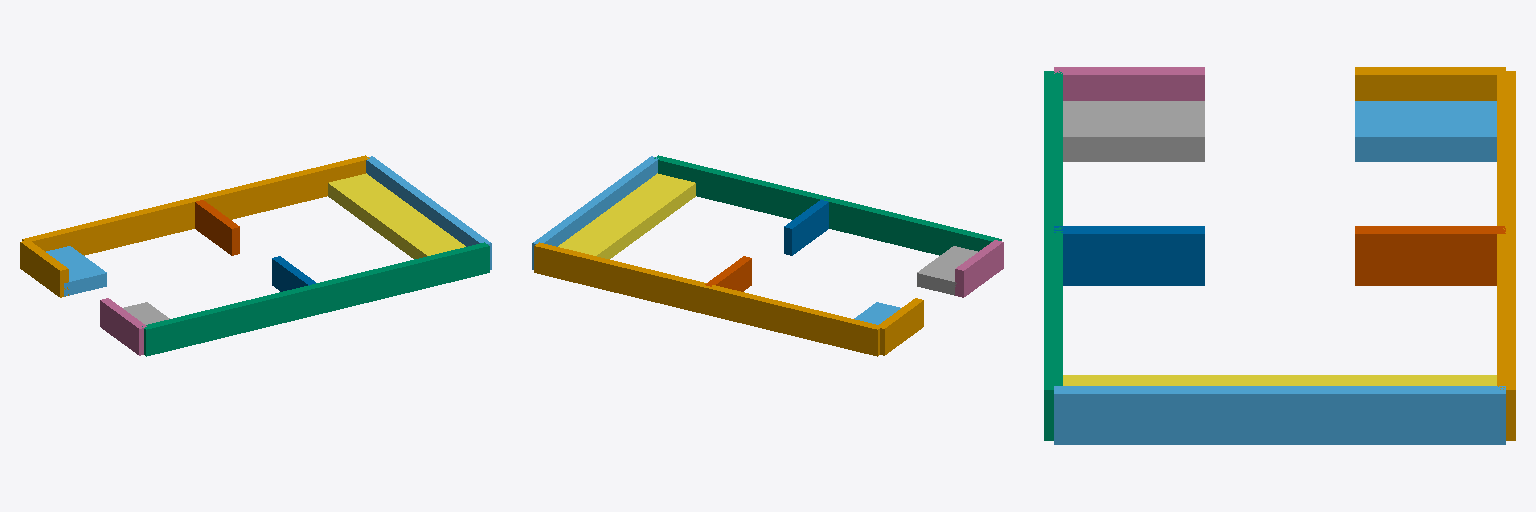
URDF robot description (arena):
<robot name="arena">
  

  	<link name="wall_1">
    		<inertial>
      			<origin xyz="0 1.20 0" /> 
      			<mass value="10.0" />
      			<inertia  ixx="1.0" ixy="0.0"  ixz="0.0"  iyy="1.0"  iyz="0.0"  izz="1.0" />
    		</inertial>
    		<visual>
      			<origin xyz="0 1.20 0"/>
      			<geometry>
        			<box size="4 0.1 0.3" />
      			</geometry>
    		</visual>
    		<collision>
      			<origin xyz="0 1.20 0"/>
      		<geometry>
        		<box size="4 0.1 0.3" />
      		</geometry>
    		</collision>
  	</link>

	<joint name="join1" type="fixed">
    		<origin xyz="2 0 0" rpy="0 0 0"/>
    		<parent link="wall_1"/>
    		<child link="wall_2"/>
  	</joint>

    	<link name="wall_2">
    		<inertial>
      			<origin xyz="0 0 0" /> 
      			<mass value="10.0" />
      			<inertia  ixx="1.0" ixy="0.0"  ixz="0.0"  iyy="1.0"  iyz="0.0"  izz="1.0" />
    		</inertial>
    		<visual>
      			<origin xyz="0 0 0"/>
      			<geometry>
        			<box size="0.1 -2.40 0.3" />
      			</geometry>
    		</visual>
    		<collision>
      			<origin xyz="0 0 0"/>
      			<geometry>
        			<box size="0.1 -2.40 0.3" />
      			</geometry>
    		</collision>
  	</link>

	<joint name="join2" type="fixed">
    		<origin xyz="-2 -1.2 0" rpy="0 0 0"/>
    		<parent link="wall_2"/>
    		<child link="wall_3"/>
  	</joint>

	<link name="wall_3">
    		<inertial>
      			<origin xyz="0 0 0" /> 
      			<mass value="10.0" />
      			<inertia  ixx="1.0" ixy="0.0"  ixz="0.0"  iyy="1.0"  iyz="0.0"  izz="1.0" />
    		</inertial>
    		<visual>
      			<origin xyz="0 0 0"/>
      			<geometry>
        			<box size="4 0.1 0.3" />
      			</geometry>
    		</visual>
    		<collision>
      			<origin xyz="0 0 0"/>
      		<geometry>
        		<box size="4 0.1 0.3" />
      		</geometry>
    		</collision>
  	</link>

	<joint name="join10" type="fixed">
    		<origin xyz="-0.25 0.0 0.0" rpy="0 0 0"/>
    		<parent link="wall_2"/>
    		<child link="wall_10"/>
  	</joint>

	<link name="wall_10">
    		<inertial>
      			<origin xyz="0 0.0 -0.075" /> 
      			<mass value="10.0" />
      			<inertia  ixx="1.0" ixy="0.0"  ixz="0.0"  iyy="1.0"  iyz="0.0"  izz="1.0" />
    		</inertial>
    		<visual>
      			<origin xyz="0 0.0 -0.075"/>
      			<geometry>
        			<box size="0.5 2.4 0.15" />
      			</geometry>
    		</visual>
    		<collision>
      			<origin xyz="0 0.0 -0.075" /> 
      		<geometry>
        		<box size="0.5 2.4 0.15" />
      		</geometry>
    		</collision>
  	</link>

	<joint name="join3" type="fixed">
    		<origin xyz="0 -0.4 0" rpy="0 0 0"/>
    		<parent link="wall_3"/>
    		<child link="wall_4"/>
  	</joint>

	<link name="wall_4">
    		<inertial>
      			<origin xyz="0 0.8 0" /> 
      			<mass value="10.0" />
      			<inertia  ixx="1.0" ixy="0.0"  ixz="0.0"  iyy="1.0"  iyz="0.0"  izz="1.0" />
    		</inertial>
    		<visual>
      			<origin xyz="0 0.8 0"/>
      			<geometry>
        			<box size="0.1 0.8 0.3" />
      			</geometry>
    		</visual>
    		<collision>
      			<origin xyz="0 0.8 0"/>
      		<geometry>
        		<box size="0.1 0.8 0.3" />
      		</geometry>
    		</collision>
  	</link>

	<joint name="join4" type="fixed">
    		<origin xyz="0 0 0" rpy="0 0 0"/>
    		<parent link="wall_1"/>
    		<child link="wall_5"/>
  	</joint>

	<link name="wall_5">
    		<inertial>
      			<origin xyz="0 0.8 0" /> 
      			<mass value="10.0" />
      			<inertia  ixx="1.0" ixy="0.0"  ixz="0.0"  iyy="1.0"  iyz="0.0"  izz="1.0" />
    		</inertial>
    		<visual>
      			<origin xyz="0 0.8 0"/>
      			<geometry>
        			<box size="0.1 0.8 0.3" />
      			</geometry>
    		</visual>
    		<collision>
      			<origin xyz="0 0.8 0" /> 
      		<geometry>
        		<box size="0.1 0.8 0.3" />
      		</geometry>
    		</collision>
  	</link>

----------
	<joint name="join5" type="fixed">
    		<origin xyz="-2 -0.4 0" rpy="0 0 0"/>
    		<parent link="wall_3"/>
    		<child link="wall_6"/>
  	</joint>

	<link name="wall_6">
    		<inertial>
      			<origin xyz="0 0.8 0" /> 
      			<mass value="10.0" />
      			<inertia  ixx="1.0" ixy="0.0"  ixz="0.0"  iyy="1.0"  iyz="0.0"  izz="1.0" />
    		</inertial>
    		<visual>
      			<origin xyz="0 0.8 0"/>
      			<geometry>
        			<box size="0.1 0.8 0.3" />
      			</geometry>
    		</visual>
    		<collision>
      			<origin xyz="0 0.8 0"/>
      		<geometry>
        		<box size="0.1 0.8 0.3" />
      		</geometry>
    		</collision>
  	</link>
	
	<joint name="join8" type="fixed">
    		<origin xyz="0.25 0.8 0.0" rpy="0 0 0"/>
    		<parent link="wall_6"/>
    		<child link="wall_9"/>
  	</joint>

	<link name="wall_9">
    		<inertial>
      			<origin xyz="0 0.0 -0.075" /> 
      			<mass value="10.0" />
      			<inertia  ixx="1.0" ixy="0.0"  ixz="0.0"  iyy="1.0"  iyz="0.0"  izz="1.0" />
    		</inertial>
    		<visual>
      			<origin xyz="0 0.0 -0.075"/>
      			<geometry>
        			<box size="0.5 0.8 0.15" />
      			</geometry>
    		</visual>
    		<collision>
      			<origin xyz="0 0.0 -0.075" /> 
      		<geometry>
        		<box size="0.5 0.8 0.15" />
      		</geometry>
    		</collision>
  	</link>

	<joint name="join6" type="fixed">
    		<origin xyz="-2 0 0" rpy="0 0 0"/>
    		<parent link="wall_1"/>
    		<child link="wall_7"/>
  	</joint>

	<link name="wall_7">
    		<inertial>
      			<origin xyz="0 0.8 0" /> 
      			<mass value="10.0" />
      			<inertia  ixx="1.0" ixy="0.0"  ixz="0.0"  iyy="1.0"  iyz="0.0"  izz="1.0" />
    		</inertial>
    		<visual>
      			<origin xyz="0 0.8 0"/>
      			<geometry>
        			<box size="0.1 0.8 0.3" />
      			</geometry>
    		</visual>
    		<collision>
      			<origin xyz="0 0.8 0" /> 
      		<geometry>
        		<box size="0.1 0.8 0.3" />
      		</geometry>
    		</collision>
  	</link>

	<joint name="join7" type="fixed">
    		<origin xyz="0.25 0.8 0.0" rpy="0 0 0"/>
    		<parent link="wall_7"/>
    		<child link="wall_8"/>
  	</joint>

	<link name="wall_8">
    		<inertial>
      			<origin xyz="0 0.0 -0.075" /> 
      			<mass value="10.0" />
      			<inertia  ixx="1.0" ixy="0.0"  ixz="0.0"  iyy="1.0"  iyz="0.0"  izz="1.0" />
    		</inertial>
    		<visual>
      			<origin xyz="0 0.0 -0.075"/>
      			<geometry>
        			<box size="0.5 0.8 0.15" />
      			</geometry>
    		</visual>
    		<collision>
      			<origin xyz="0 0.0 -0.075" /> 
      		<geometry>
        		<box size="0.5 0.8 0.15" />
      		</geometry>
    		</collision>
  	</link>




  <gazebo reference="wall_1">
	<material>Gazebo/Gray</material>
	<selfCollide>true</selfCollide>
  </gazebo>
  <gazebo reference="wall_2">
	<material>Gazebo/Gray</material>
	<selfCollide>true</selfCollide>
  </gazebo>
  <gazebo reference="wall_3">
	<material>Gazebo/Gray</material>
	<selfCollide>true</selfCollide>
  </gazebo>
  <gazebo reference="wall_4">
	<material>Gazebo/Gray</material>
	<selfCollide>true</selfCollide>
  </gazebo>
  <gazebo reference="wall_5">
	<material>Gazebo/Gray</material>
	<selfCollide>true</selfCollide>
  </gazebo>
  <gazebo reference="wall_6">
	<material>Gazebo/Gray</material>
	<selfCollide>true</selfCollide>
  </gazebo>
  <gazebo reference="wall_7">
	<material>Gazebo/Gray</material>
	<selfCollide>true</selfCollide>
  </gazebo>
  <gazebo reference="wall_8">
	<material>Gazebo/Gray</material>
	<selfCollide>true</selfCollide>
  </gazebo>
  <gazebo reference="wall_9">
	<material>Gazebo/Gray</material>
	<selfCollide>true</selfCollide>
  </gazebo>
  <gazebo reference="wall_10">
	<material>Gazebo/Gray</material>
	<selfCollide>true</selfCollide>
  </gazebo>

</robot>

--- Render facts (derived) ---
The picture shows the robot from 3 angles, left to right: view 1: azimuth 30°, elevation 25°; view 2: azimuth 150°, elevation 25°; view 3: azimuth 270°, elevation 25°; orthographic projection.
Model arena with 10 links and 9 joints (9 fixed), rooted at wall_1, posed all joints at 0.
Links seen in each view (by area): view 1: wall_3, wall_1, wall_10, wall_2, wall_7, wall_8, wall_5, wall_6, wall_4, wall_9; view 2: wall_1, wall_3, wall_10, wall_2, wall_6, wall_4, wall_7, wall_9, wall_5, wall_8; view 3: wall_2, wall_9, wall_8, wall_5, wall_4, wall_3, wall_1, wall_7, wall_6, wall_10.
Boxes of the visible links, left/top/right/bottom form: wall_3: left=142, top=242, right=489, bottom=356; wall_1: left=22, top=155, right=369, bottom=255; wall_10: left=328, top=173, right=465, bottom=258; wall_2: left=366, top=156, right=491, bottom=269; wall_7: left=20, top=240, right=68, bottom=297; wall_8: left=46, top=246, right=106, bottom=296; wall_5: left=195, top=200, right=239, bottom=255; wall_6: left=100, top=298, right=146, bottom=355; wall_4: left=272, top=256, right=315, bottom=291; wall_9: left=123, top=302, right=169, bottom=324; wall_1: left=534, top=242, right=881, bottom=356; wall_3: left=654, top=155, right=1001, bottom=255; wall_10: left=558, top=173, right=695, bottom=258; wall_2: left=532, top=156, right=658, bottom=269; wall_6: left=955, top=240, right=1003, bottom=297; wall_4: left=784, top=198, right=829, bottom=255; wall_7: left=877, top=298, right=923, bottom=355; wall_9: left=917, top=246, right=977, bottom=295; wall_5: left=705, top=256, right=751, bottom=291; wall_8: left=854, top=302, right=900, bottom=324; wall_2: left=1054, top=386, right=1505, bottom=444; wall_9: left=1063, top=101, right=1204, bottom=161; wall_8: left=1355, top=101, right=1496, bottom=161; wall_5: left=1355, top=226, right=1505, bottom=285; wall_4: left=1054, top=226, right=1204, bottom=285; wall_3: left=1044, top=71, right=1062, bottom=440; wall_1: left=1497, top=71, right=1515, bottom=440; wall_7: left=1355, top=67, right=1505, bottom=100; wall_6: left=1054, top=67, right=1204, bottom=100; wall_10: left=1063, top=375, right=1496, bottom=385.
Size in the robot's own frame: 4.1 by 2.5 by 0.3 metres.
Geometry: primitives only (box / cylinder / sphere), no mesh files.